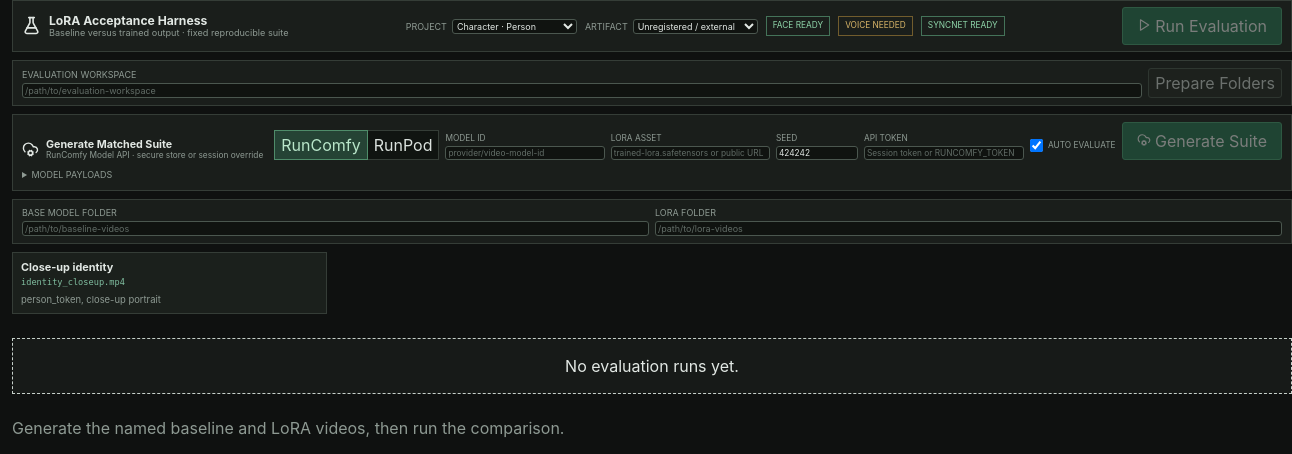
Test: EvaluationHarness › shows the fixed file contract and queues a background comparison
Expected: the text "identity_closeup.mp4" is shown, [21,277,125,287]
Expected: the text "Face ready" is shown, [766,16,830,36]
Type "/tmp/base" into the field named "Baseline video folder" at x=336, y=228, box [22,221,649,236]
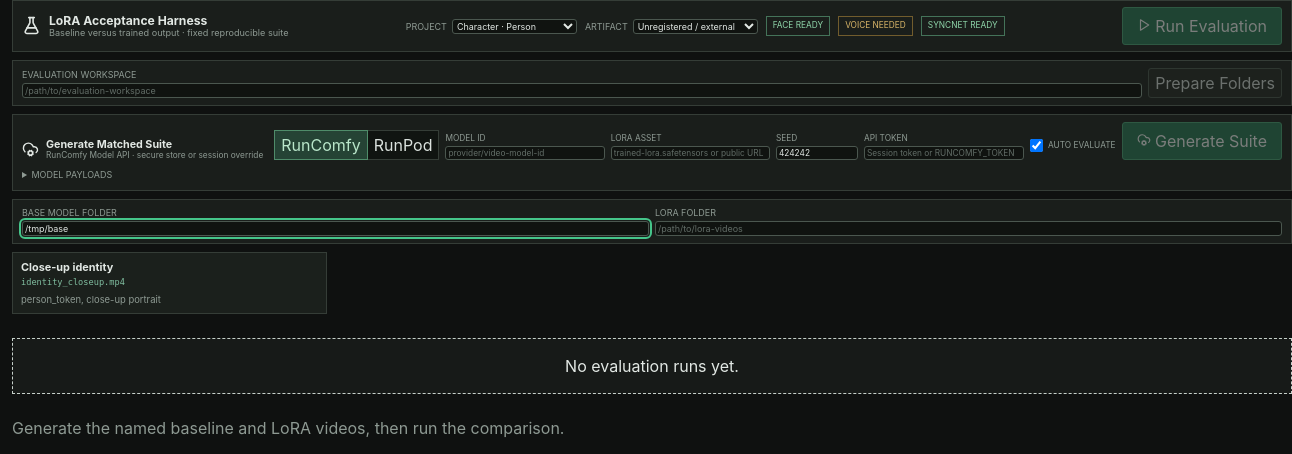
Type "/tmp/lora" into the field named "LoRA video folder" at x=968, y=228, box [655,221,1282,236]
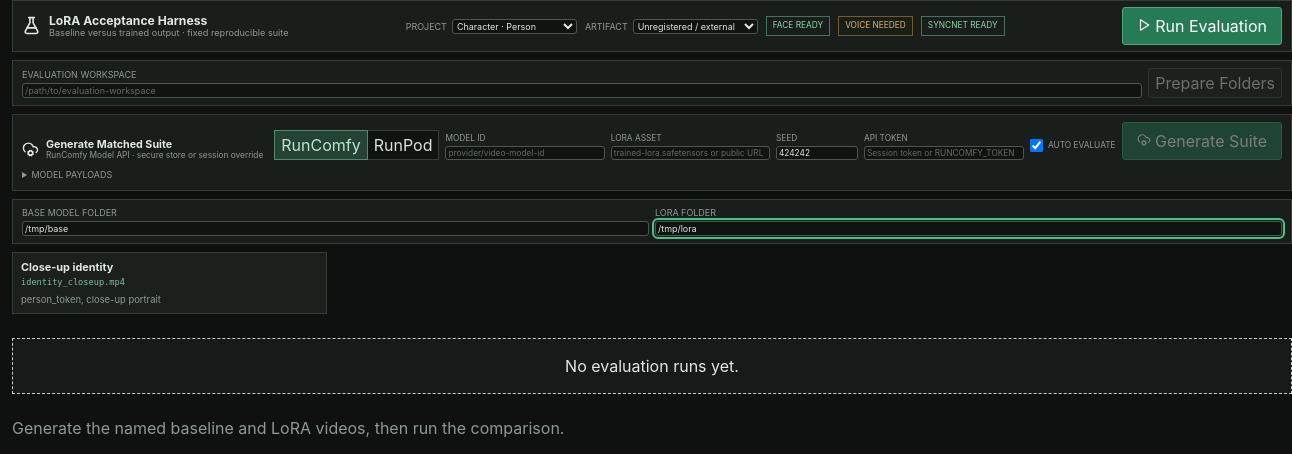
Click the button "Run Evaluation" at x=1202, y=26, box [1122,7,1282,45]
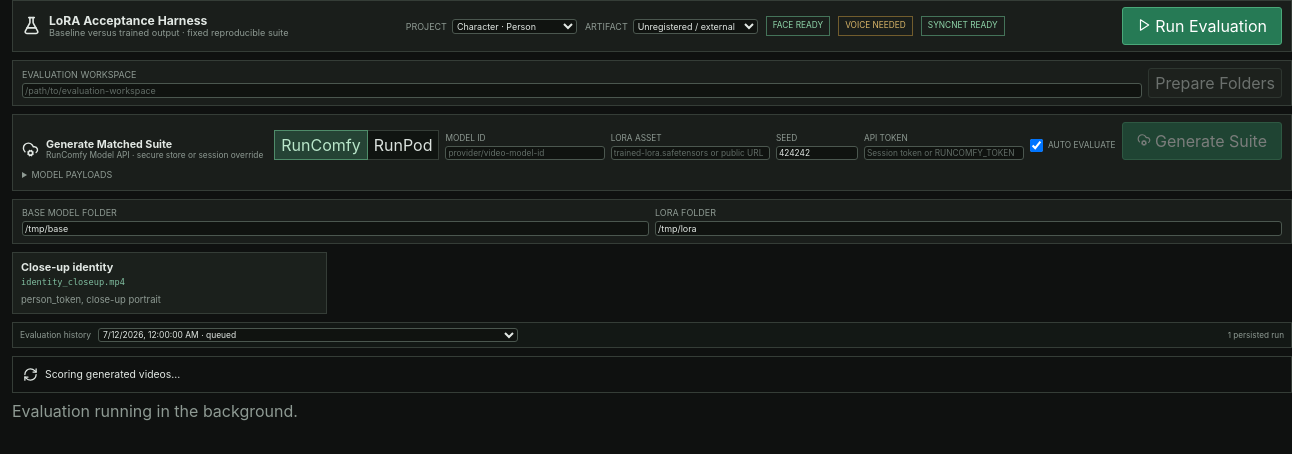
Result: the text "Scoring generated videos..." is shown at [12,356,1291,393]
